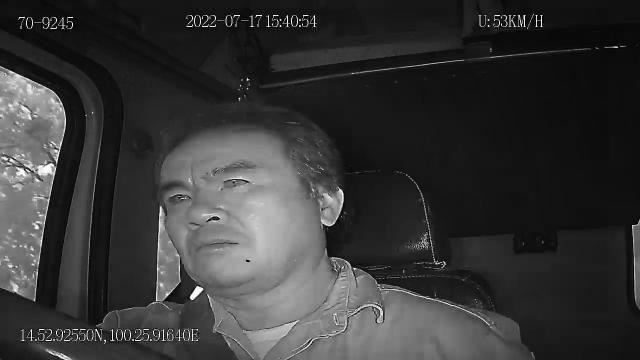SafeDriving: (216, 166, 260, 196), (160, 182, 200, 210)
Seatbelt: (178, 286, 240, 360)
